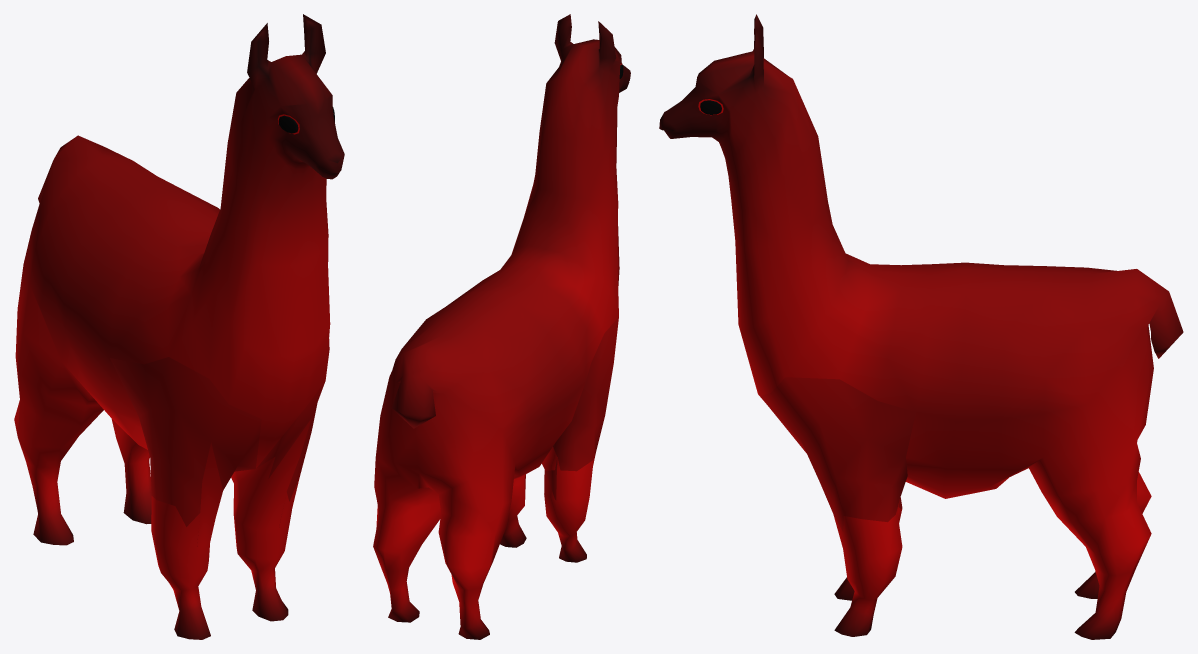
Rendered from Animals_Llama.fbx.
The picture shows the model from 3 angles, left to right: view 1: azimuth 30°, elevation 25°; view 2: azimuth 150°, elevation 25°; view 3: azimuth 270°, elevation 25°; orthographic projection. The views are drawn at different scales.
Parts seen in each view (by area): view 1: alt600, alt601; view 2: alt600, alt601; view 3: alt600, alt601.
Part boxes in pixels (left/top/right/bottom): alt600: left=14, top=14, right=344, bottom=639; alt601: left=110, top=357, right=325, bottom=546; alt600: left=373, top=14, right=630, bottom=639; alt601: left=545, top=317, right=618, bottom=500; alt600: left=659, top=14, right=1183, bottom=639; alt601: left=719, top=104, right=915, bottom=531.
Bounding box in the file's own units: 56.76 × 197 × 158.
